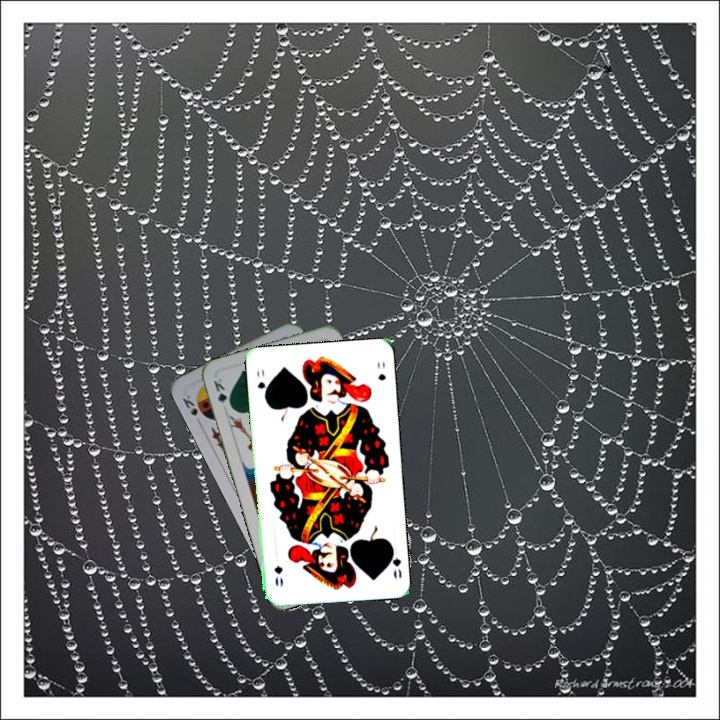GK: (209, 374, 234, 414)
GO: (384, 541, 404, 582), (253, 365, 270, 402)
SK: (178, 391, 200, 418)
